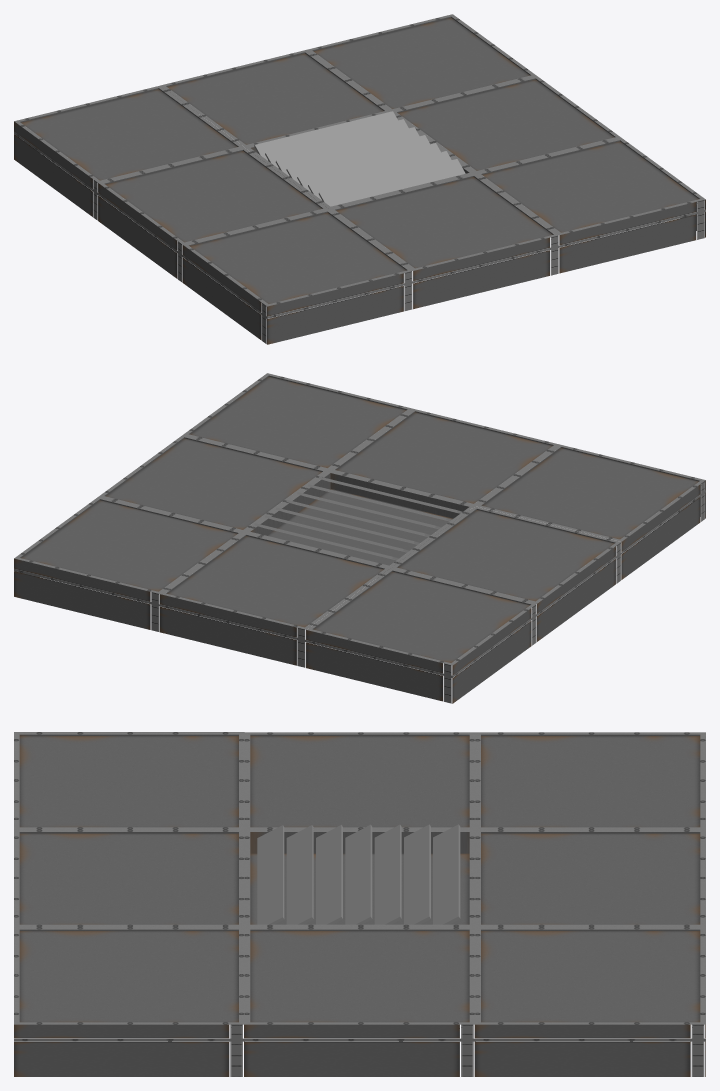
Rendered from Roof_Tiles.FBX.
The picture shows the model from 3 angles, top to bottom: view 1: azimuth 30°, elevation 25°; view 2: azimuth 150°, elevation 25°; view 3: azimuth 270°, elevation 25°; orthographic projection. The views are drawn at different scales.
Parts seen in each view (by area): view 1: Box001, Box008; view 2: Box001, Box008; view 3: Box001, Box008.
Boxes of the visible parts, box(x1,y1,x2,y2) form: Box001: box(14, 14, 705, 344); Box008: box(254, 111, 465, 206); Box001: box(14, 373, 705, 703); Box008: box(254, 476, 462, 560); Box001: box(14, 732, 705, 1076); Box008: box(257, 824, 460, 924).
Size of the model in its own units: 24 by 2.31 by 24.
